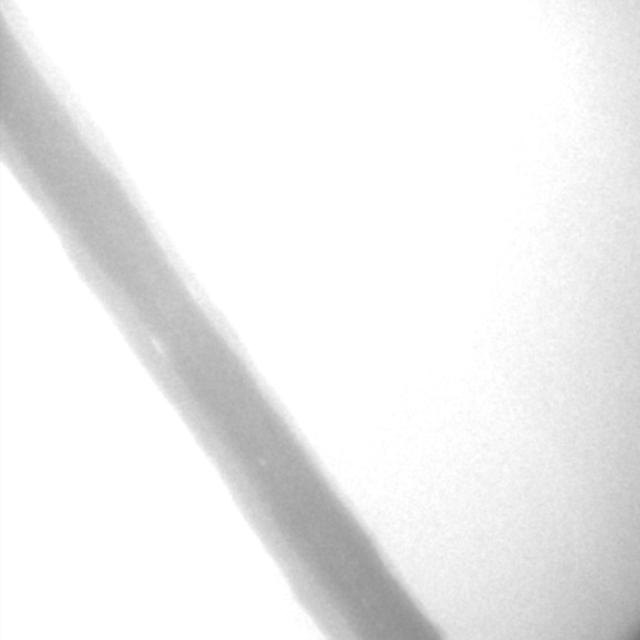air hole: (150, 335, 166, 358), (258, 456, 266, 467)
